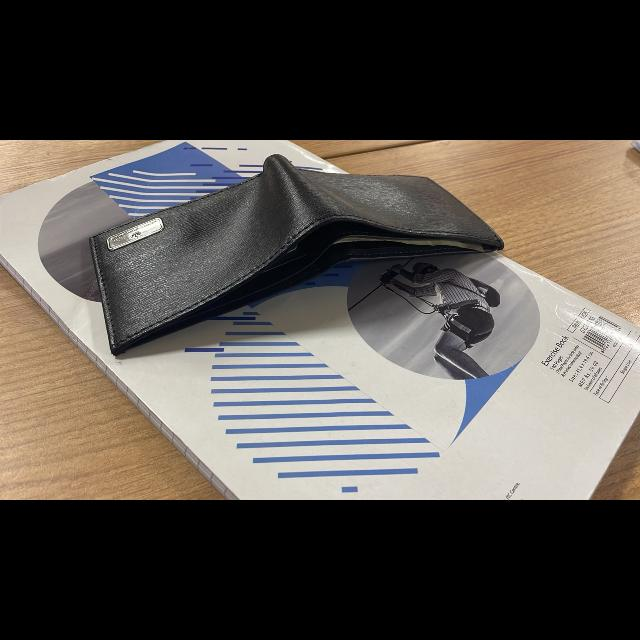wallet: (64, 146, 600, 348)
